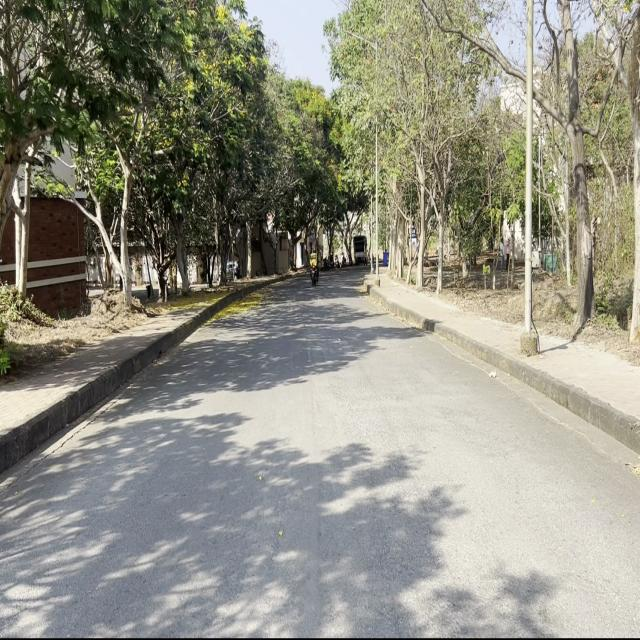Object: (305, 238, 323, 289)
Road: (1, 266, 640, 637)
